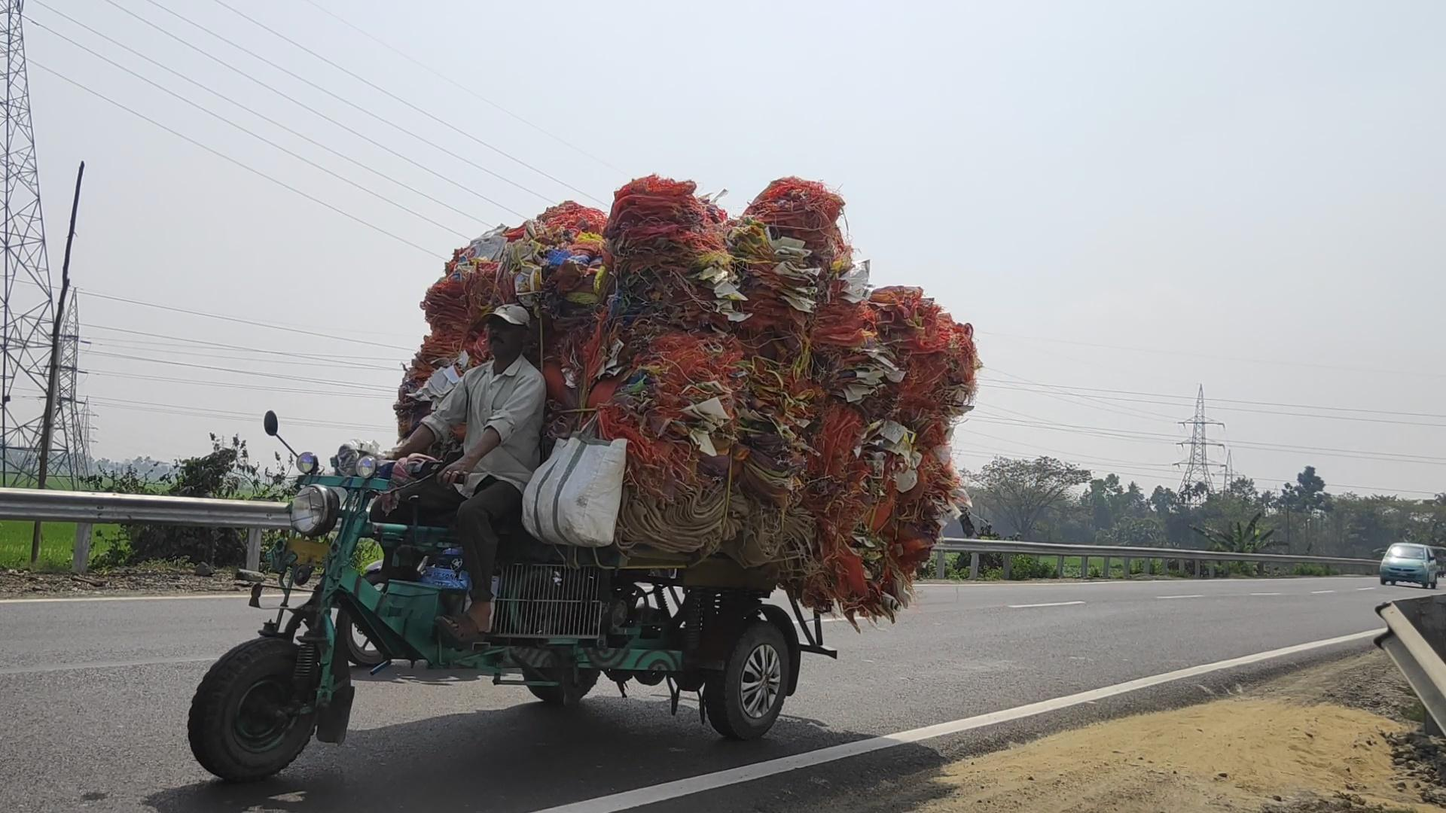car: (1380, 543, 1437, 589)
